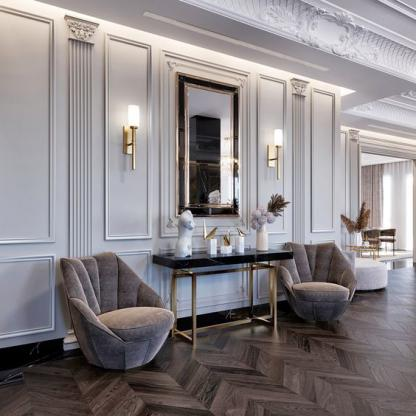Futec frame: (160, 46, 260, 332), (0, 2, 59, 355), (100, 30, 159, 343), (303, 79, 342, 264)
